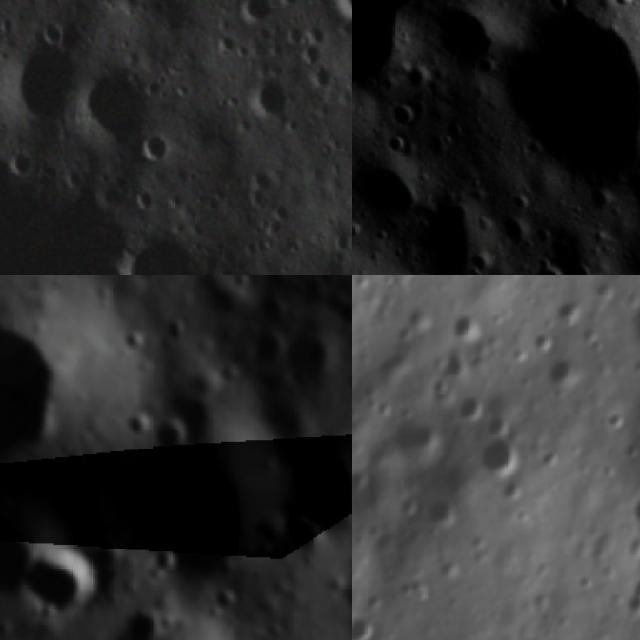crater: (473, 0, 640, 196), (113, 421, 271, 597), (0, 275, 99, 479), (0, 198, 140, 275), (275, 430, 352, 541), (352, 136, 439, 233), (70, 66, 155, 156), (19, 538, 105, 620), (0, 42, 79, 126), (272, 332, 344, 406), (120, 233, 199, 275), (143, 401, 192, 457), (473, 426, 526, 477), (244, 72, 290, 121), (382, 90, 426, 132), (118, 599, 163, 640), (131, 127, 177, 167), (425, 492, 466, 532), (519, 247, 576, 275), (454, 388, 492, 426), (550, 293, 590, 328), (36, 10, 69, 52), (546, 356, 583, 392), (449, 311, 488, 343), (498, 472, 530, 506), (231, 0, 271, 27), (598, 404, 630, 436), (0, 144, 15, 211), (389, 258, 444, 275), (528, 329, 562, 355), (485, 407, 511, 439), (440, 352, 471, 378), (623, 574, 640, 620), (429, 372, 454, 402), (540, 445, 565, 472), (352, 616, 379, 640), (627, 488, 640, 526), (352, 461, 368, 489), (352, 275, 373, 292)
